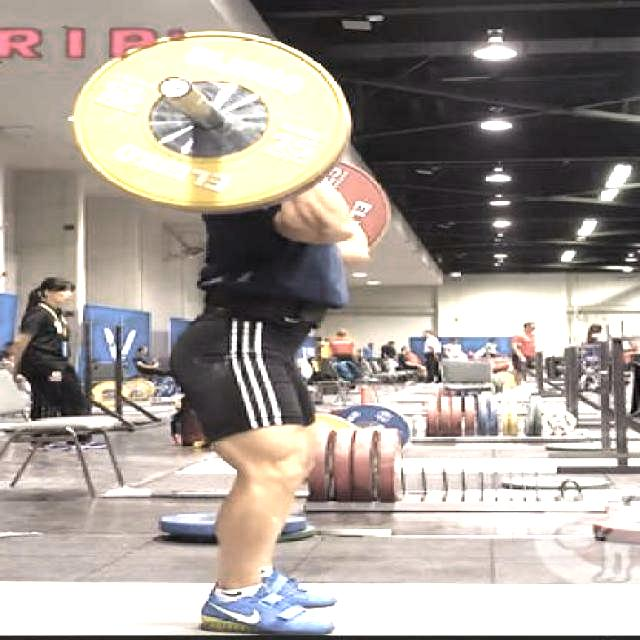barbell: (56, 22, 362, 218)
